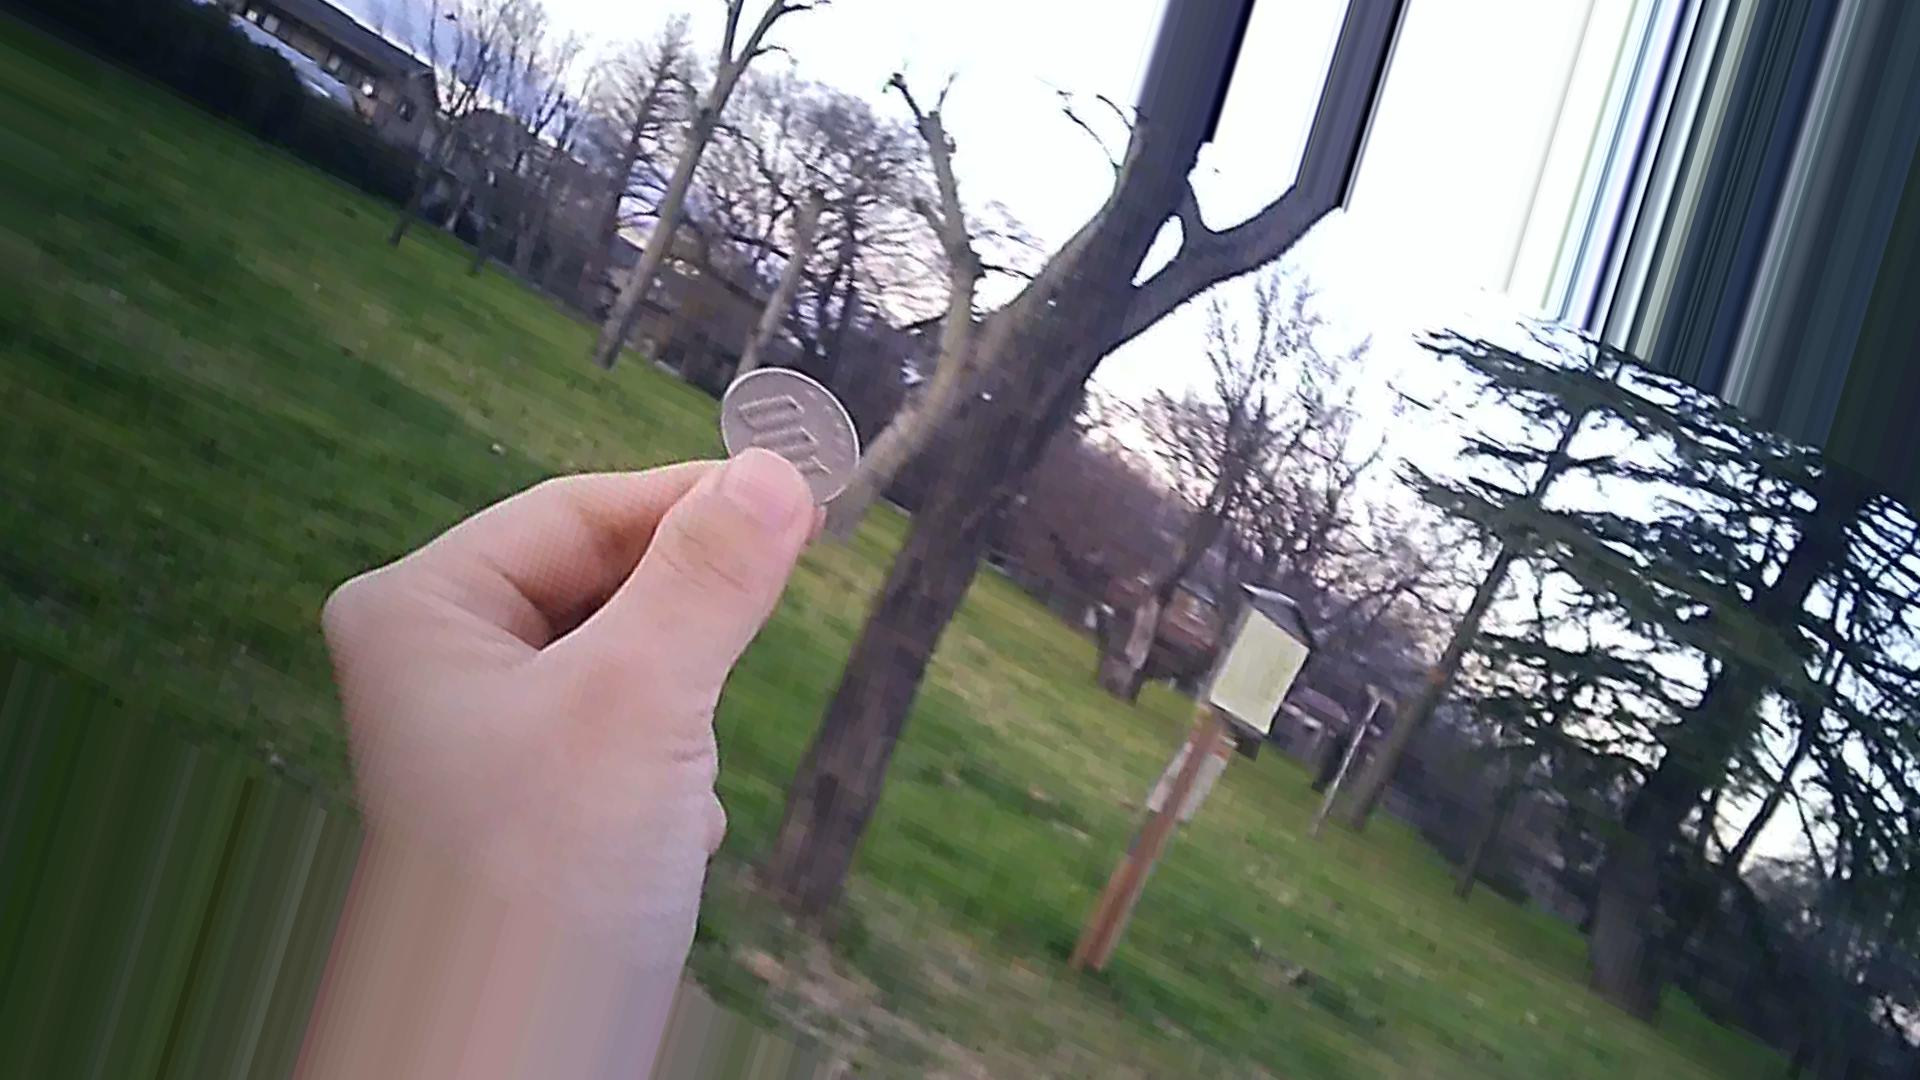100 Yen: (723, 367, 868, 506)
